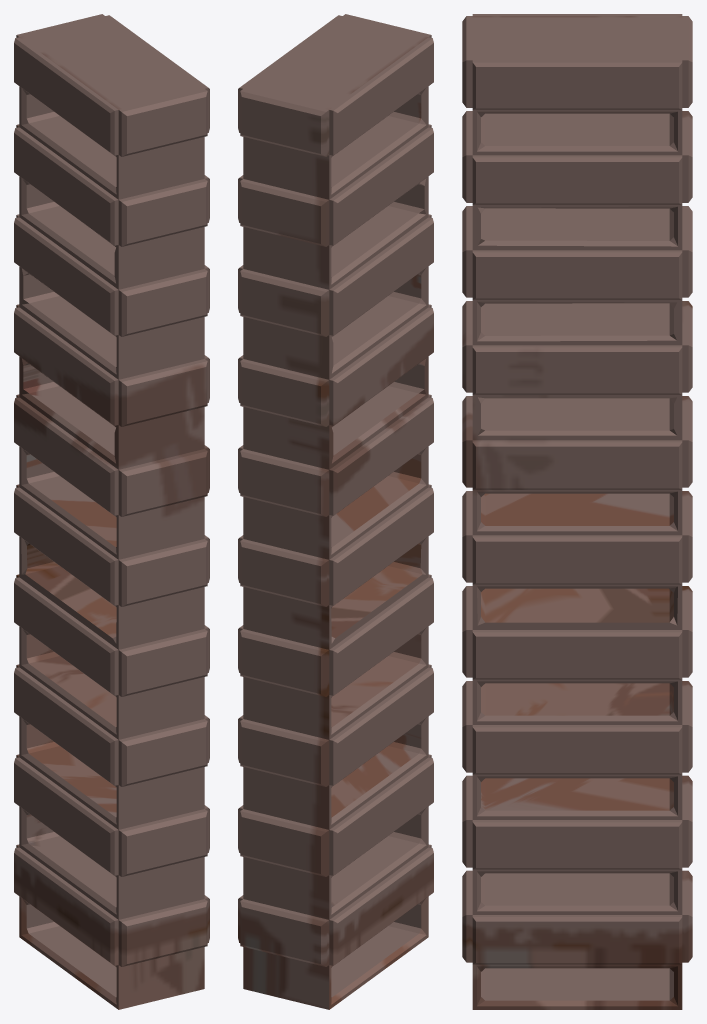
File: rail.fbx
3 renders of one model, left to right at view 1: azimuth 30°, elevation 25°; view 2: azimuth 150°, elevation 25°; view 3: azimuth 270°, elevation 25°, orthographic. The views are drawn at different scales.
Parts seen in each view (by area): view 1: rail; view 2: rail; view 3: rail.
Part boxes in pixels (box(x1,y1,x2,y2)): rail: box(14, 14, 209, 1009); rail: box(238, 14, 433, 1009); rail: box(462, 14, 692, 1009).
Bounding box in the file's own units: 0.116 × 1 × 0.22.
